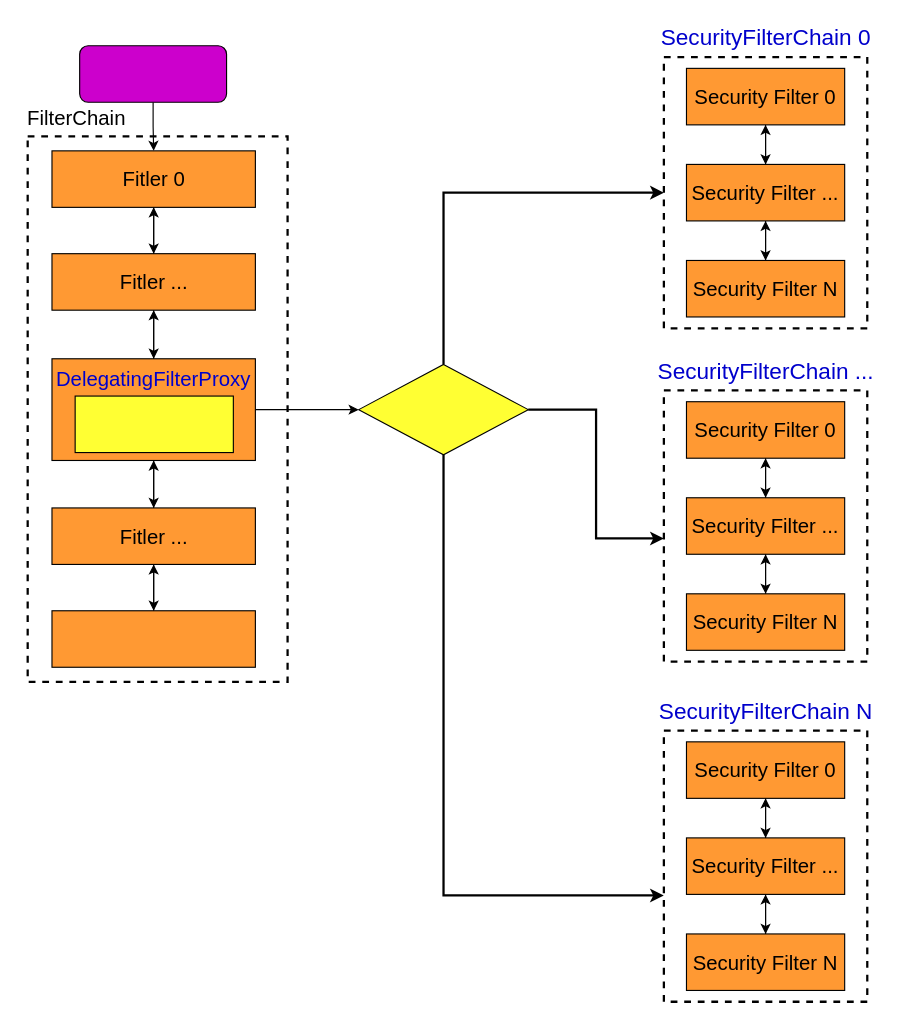
Image size: 916x1022. Some labels were removed from this diagram. Here are the shapes that lost their labels. From the top down, the centre of each, then its label:
At pixel 153 73: "Client".
At pixel 153 424: "FilterChainProxy".
At pixel 443 409: "匹配请求 ？".
At pixel 153 638: "Servlet".
